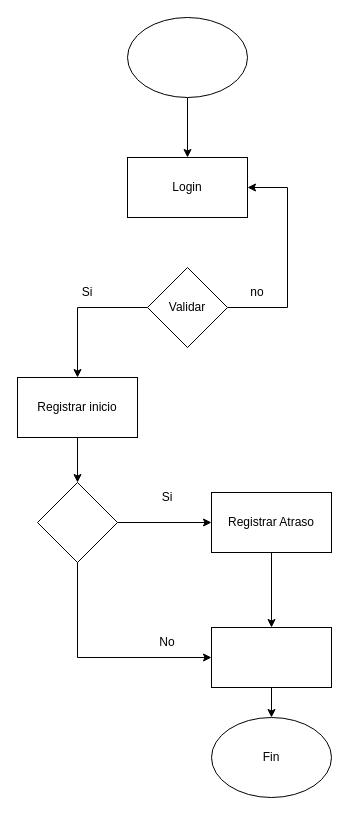
Image size: 349x815. Some labels were removed from this diagram. The shapes that lost their labels are listed below. From the top down, each one's centre as x and y in pixels, then its label:
At point 187,57: "Inicio".
At point 77,522: "Atrasado".
At point 271,657: "Visualizar resultado".
